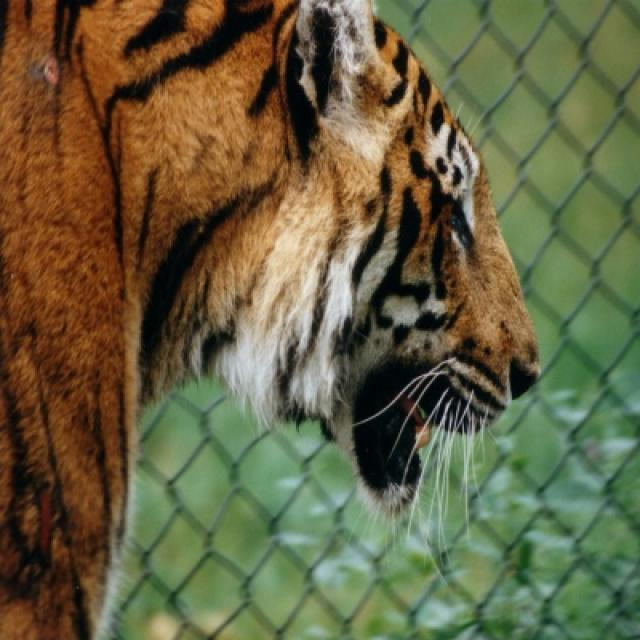Tiger: (0, 0, 538, 638)
